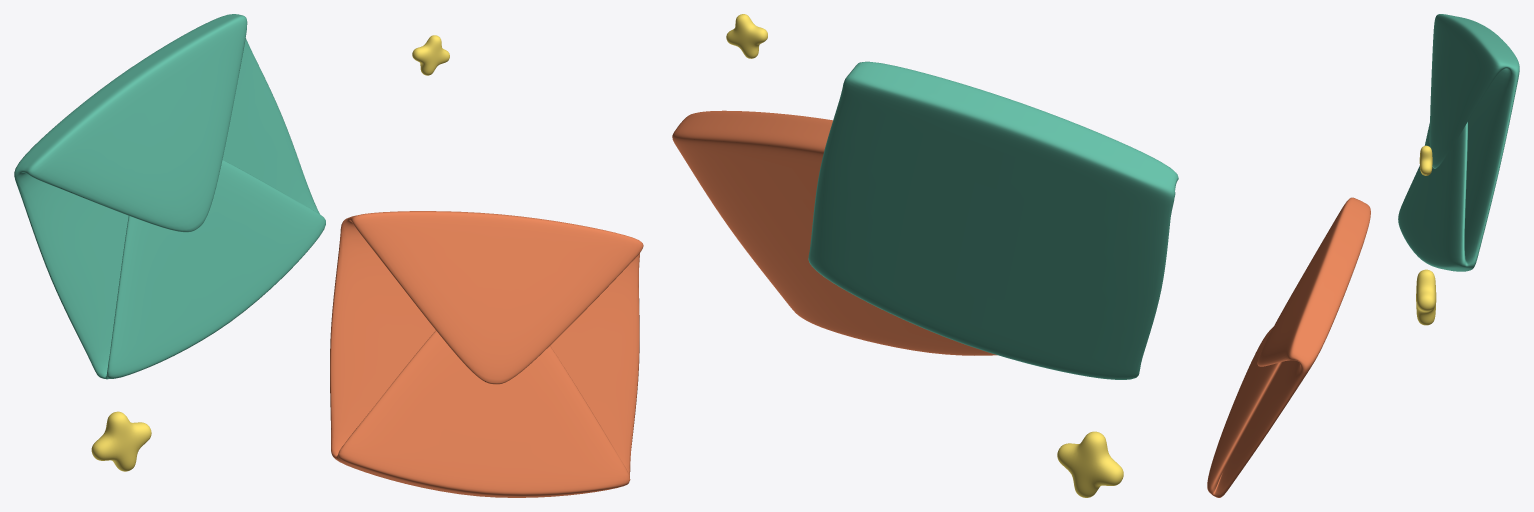
The model's file is messages-fun-loading-animated-3d-icon-666273524379.glb.
3 views of the same model, side by side, from view 1: azimuth 30°, elevation 25°; view 2: azimuth 150°, elevation 25°; view 3: azimuth 270°, elevation 25° (orthographic). The views are drawn at different scales.
Parts seen in each view (by area): view 1: Cube.002, Cube.001, Cube.004, Cube.003; view 2: Cube.001, Cube.002, Cube.004, Cube.003; view 3: Cube.001, Cube.002, Cube.004, Cube.003.
Boxes of the visible parts, x1,y1,x2,y2 form: Cube.002: (330, 211, 643, 497); Cube.001: (14, 14, 325, 379); Cube.004: (91, 411, 151, 471); Cube.003: (412, 35, 449, 75); Cube.001: (808, 61, 1178, 379); Cube.002: (672, 110, 997, 355); Cube.004: (1057, 431, 1123, 497); Cube.003: (726, 14, 767, 58); Cube.001: (1398, 14, 1519, 271); Cube.002: (1207, 197, 1370, 497); Cube.004: (1416, 269, 1436, 325); Cube.003: (1419, 145, 1432, 175).
Bounding box in the file's own units: 2.1 × 1.51 × 1.23.
